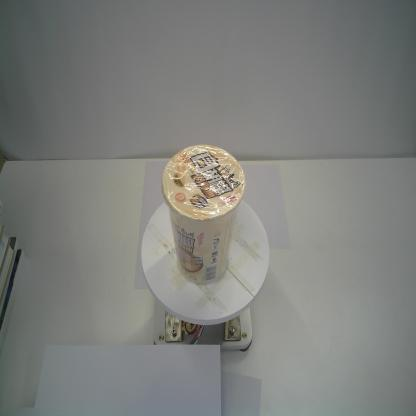Instant Noodles: (161, 143, 247, 284)
